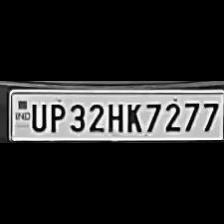2: (161, 100, 181, 134), (86, 100, 104, 134)
3: (66, 100, 86, 132)
7: (198, 100, 218, 132), (142, 99, 160, 133), (182, 100, 198, 132)
H: (104, 100, 124, 134)
K: (122, 100, 142, 134)
P: (46, 100, 66, 134)
U: (28, 100, 46, 132)
